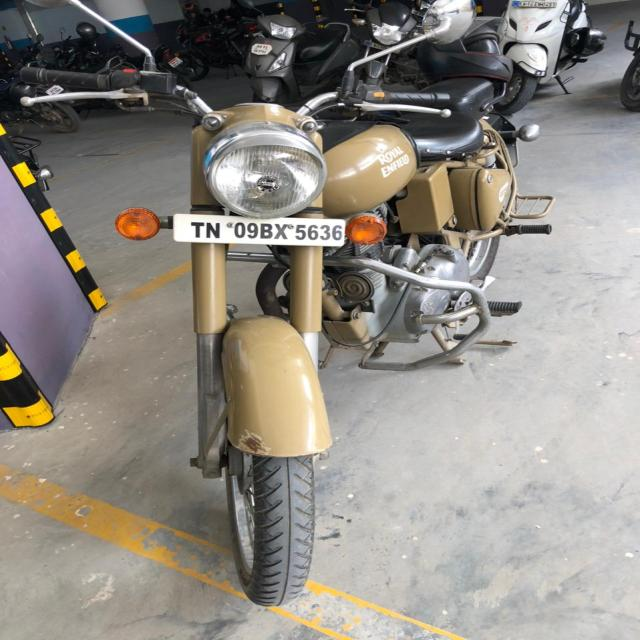number plate: (172, 213, 346, 247)
